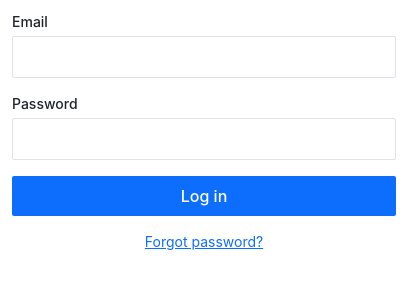
Test: LoginForm › API error handling › shows generic error message on unexpected server error
Type "alice@example.com" into the field labelled "Email".
click(204, 57); type("alice@example.com")  # box [12,36,396,78]
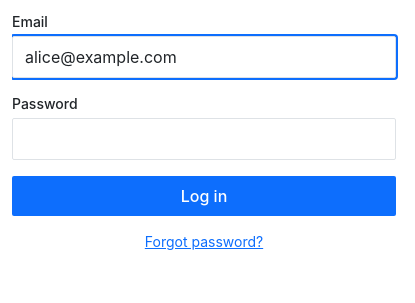
Type "password123" into the password field labelled "Password".
click(204, 139); type("password123")  # box [12,118,396,160]
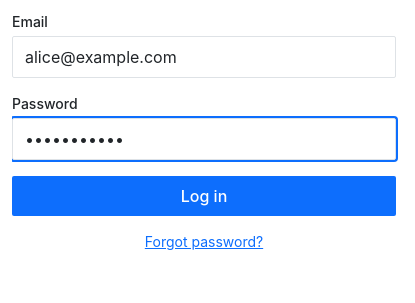
Click the button "Log in".
click(204, 196)  # box [12,176,396,216]
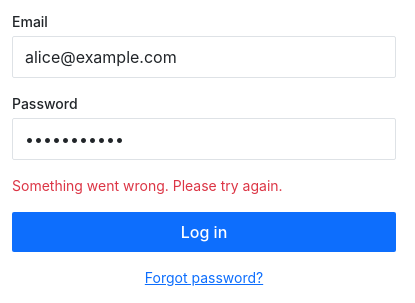
Result: the message "Something went wrong. Please try again." is shown at [12,177,283,194]
